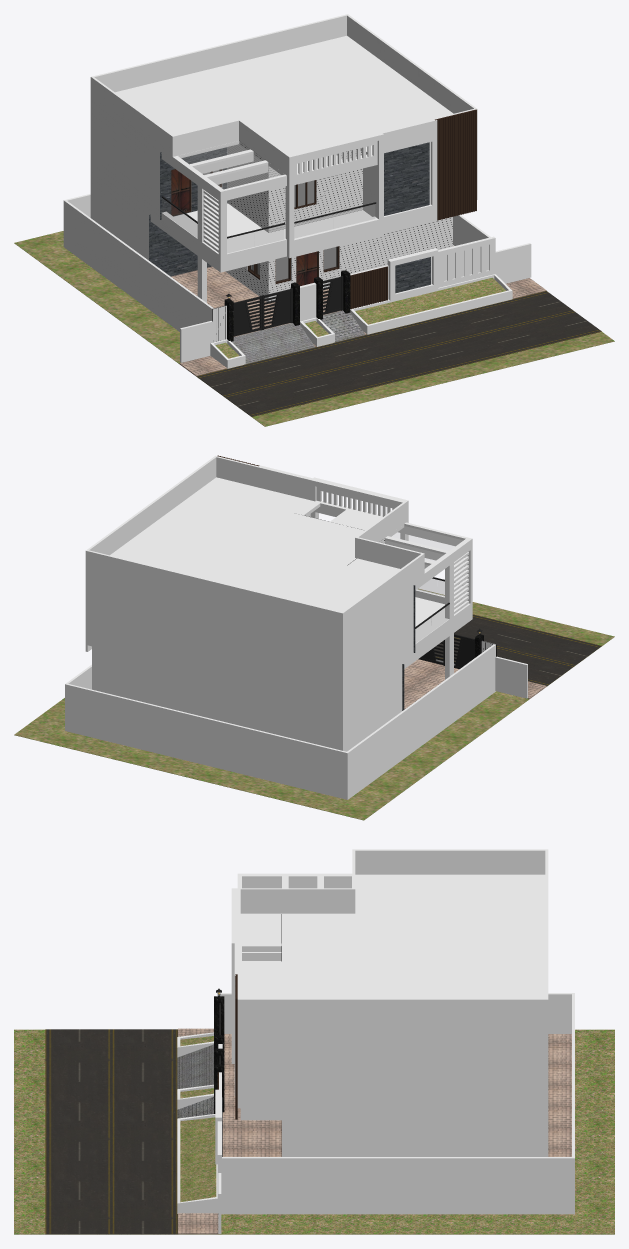
The model's file is Building.glb.
3 views of the same model, one above another, from view 1: azimuth 30°, elevation 25°; view 2: azimuth 150°, elevation 25°; view 3: azimuth 270°, elevation 25° (orthographic). The views are drawn at different scales.
Visible parts, largest first — view 1: Polyline002, Rectangle34354025, Rectangle34354821, Rectangle34354803, Rectangle34354861, WallRaftors, Box037, Rectangle34354865, _______, Rectangle34354806, Rectangle34354804, Rectangle34354785 (+3 smaller); view 2: Polyline002, Rectangle34354821, Rectangle34354025, Box037, Rectangle34354865, _______; view 3: Polyline002, Rectangle34354025, Rectangle34354821, Rectangle34354865, Rectangle34354806, Rectangle34354804, Box037.
Boxes of the visible parts, x1,y1,x2,y2 form: Polyline002: (63,14,531,368); Rectangle34354025: (196,291,601,416); Rectangle34354821: (14,231,614,426); Rectangle34354803: (212,141,452,342); Rectangle34354861: (149,142,430,293); WallRaftors: (350,109,476,309); Box037: (162,143,374,252); Rectangle34354865: (171,246,546,376); _______: (161,196,376,336); Rectangle34354806: (231,311,365,364); Rectangle34354804: (224,270,350,341); Rectangle34354785: (204,170,337,282); Polyline002: (65,455,527,799); Rectangle34354821: (14,588,614,820); Rectangle34354025: (434,614,601,685); Box037: (383,526,462,643); Rectangle34354865: (404,659,546,709); _______: (415,577,474,668); Polyline002: (177,849,574,1233); Rectangle34354025: (45,1029,177,1234); Rectangle34354821: (14,1029,614,1234); Rectangle34354865: (178,1028,571,1234); Rectangle34354806: (177,1044,213,1118); Rectangle34354804: (214,996,224,1113); Box037: (242,879,351,887).
Size of the model in its own units: 16.69 by 7.92 by 20.63.
Materials: 15 (8 with a texture image).
